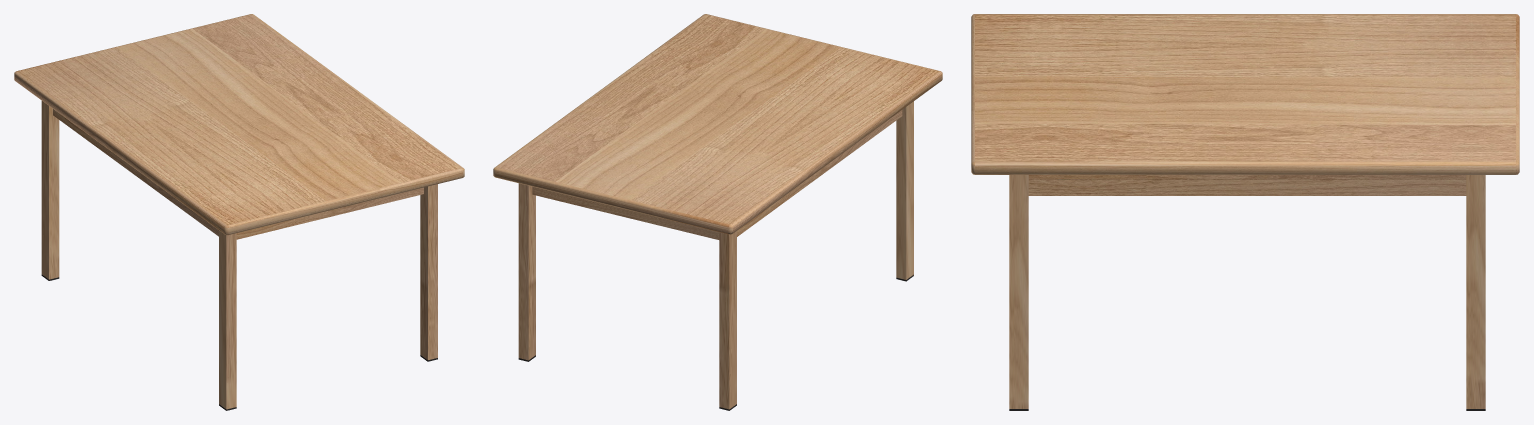
File: kitchen_table.glb
The picture shows the model from 3 angles, left to right: view 1: azimuth 30°, elevation 25°; view 2: azimuth 150°, elevation 25°; view 3: azimuth 270°, elevation 25°; orthographic projection. The views are drawn at different scales.
Visible parts, largest first — view 1: stoleshnica; view 2: stoleshnica; view 3: stoleshnica.
Boxes of the visible parts, x1,y1,x2,y2 form: stoleshnica: [14, 14, 464, 410]; stoleshnica: [493, 14, 942, 410]; stoleshnica: [971, 14, 1519, 410].
Size of the model in its own units: 0.7806 by 0.6165 by 1.2.
1 material, 1 textured.
